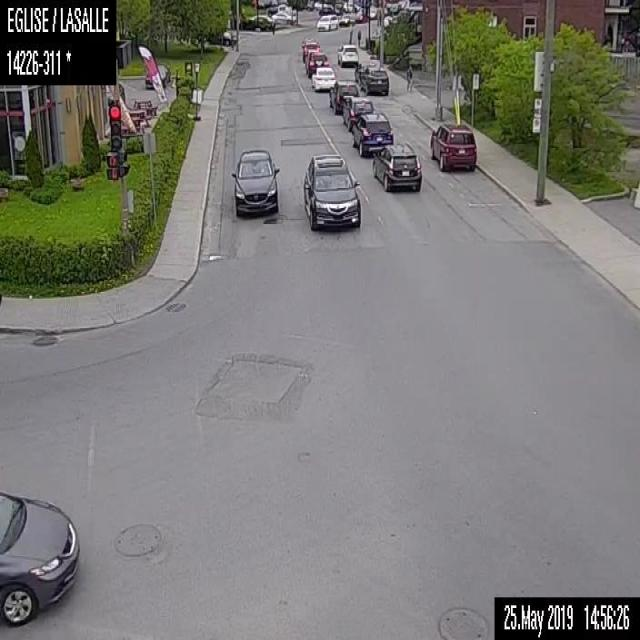pedestrian: (406, 61, 414, 92), (355, 27, 361, 48), (270, 18, 275, 42)
vehicle: (0, 487, 80, 628), (302, 149, 362, 228), (229, 147, 281, 217), (370, 141, 423, 192), (428, 120, 478, 171), (348, 111, 394, 154), (328, 78, 358, 114), (342, 94, 372, 128), (359, 66, 389, 96), (310, 66, 335, 90), (145, 63, 169, 87), (304, 51, 328, 75), (335, 44, 359, 67), (206, 28, 236, 46), (316, 11, 337, 31), (301, 41, 320, 58), (271, 12, 295, 24), (337, 14, 353, 26)
